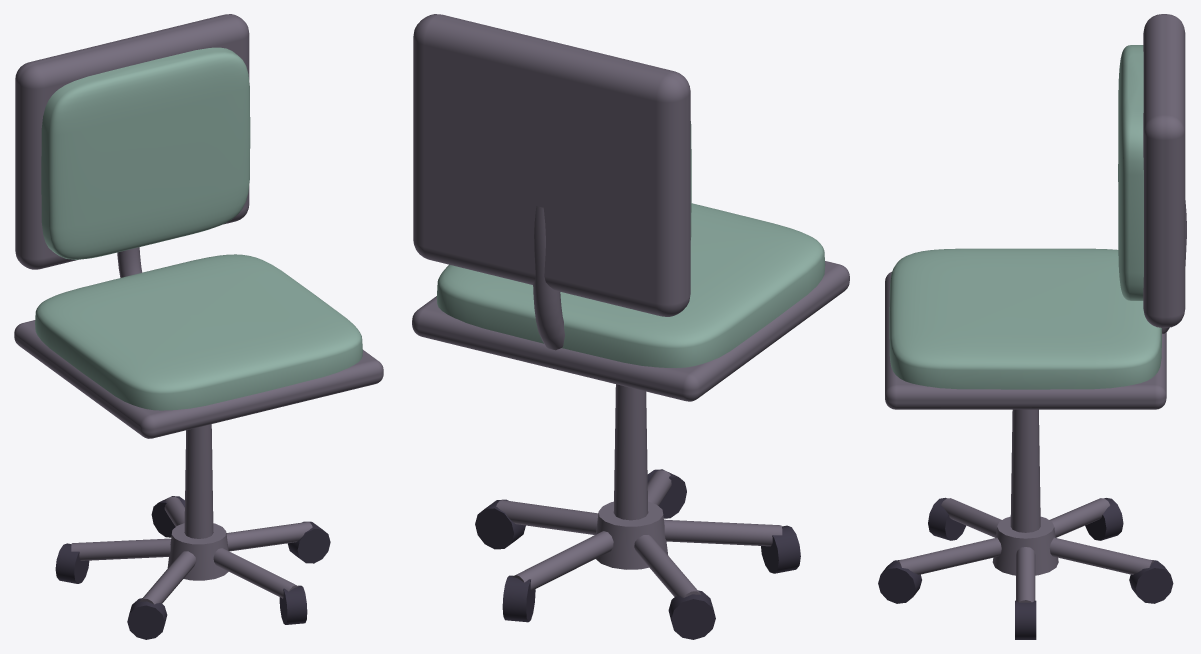
The model's file is deskchair.glb.
3 renders of one model, left to right at view 1: azimuth 30°, elevation 25°; view 2: azimuth 150°, elevation 25°; view 3: azimuth 270°, elevation 25°, orthographic. The views are drawn at different scales.
Parts seen in each view (by area): view 1: back-pad, seat-cushion-1, shaped-back, seat-shell, adjustable-stem, caster-hub, spoke-3, spoke-0, spoke-1, caster-2, spoke-2, caster-0 (+4 smaller); view 2: shaped-back, seat-cushion-1, seat-shell, adjustable-stem, caster-hub, spoke-2, continuous-back-support, spoke-0, spoke-4, caster-3, spoke-3, caster-0 (+4 smaller); view 3: seat-cushion-1, shaped-back, seat-shell, back-pad, adjustable-stem, caster-hub, spoke-1, spoke-4, caster-4, caster-1, spoke-2, spoke-3 (+4 smaller).
Boxes of the visible parts, x1=… form: back-pad: x1=41, y1=47, x2=250, y2=259; seat-cushion-1: x1=35, y1=254, x2=362, y2=410; shaped-back: x1=15, y1=14, x2=249, y2=269; seat-shell: x1=14, y1=320, x2=383, y2=438; adjustable-stem: x1=184, y1=424, x2=213, y2=538; caster-hub: x1=167, y1=523, x2=228, y2=580; spoke-3: x1=71, y1=538, x2=170, y2=560; spoke-0: x1=226, y1=522, x2=312, y2=551; spoke-1: x1=213, y1=548, x2=298, y2=598; caster-2: x1=127, y1=598, x2=167, y2=639; spoke-2: x1=140, y1=551, x2=196, y2=604; caster-0: x1=287, y1=521, x2=330, y2=563; shaped-back: x1=413, y1=14, x2=690, y2=316; seat-cushion-1: x1=436, y1=203, x2=825, y2=368; seat-shell: x1=412, y1=261, x2=849, y2=401; adjustable-stem: x1=613, y1=384, x2=648, y2=520; caster-hub: x1=596, y1=501, x2=668, y2=569; spoke-2: x1=664, y1=519, x2=782, y2=546; continuous-back-support: x1=533, y1=206, x2=564, y2=350; spoke-0: x1=496, y1=500, x2=598, y2=534; spoke-4: x1=513, y1=531, x2=613, y2=590; caster-3: x1=668, y1=590, x2=715, y2=639; spoke-3: x1=634, y1=535, x2=700, y2=597; caster-0: x1=475, y1=499, x2=525, y2=549; seat-cushion-1: x1=889, y1=248, x2=1161, y2=389; shaped-back: x1=1143, y1=14, x2=1185, y2=327; seat-shell: x1=885, y1=272, x2=1166, y2=409; back-pad: x1=1118, y1=45, x2=1143, y2=300; adjustable-stem: x1=1010, y1=409, x2=1040, y2=532; caster-hub: x1=992, y1=516, x2=1058, y2=575; spoke-1: x1=897, y1=537, x2=1001, y2=574; spoke-4: x1=1049, y1=537, x2=1153, y2=574; caster-4: x1=1129, y1=559, x2=1173, y2=603; caster-1: x1=878, y1=560, x2=921, y2=603; spoke-2: x1=941, y1=498, x2=1001, y2=537; spoke-3: x1=1049, y1=498, x2=1109, y2=537.
Size of the model in its own units: 0.675 by 1.3 by 0.7019.
